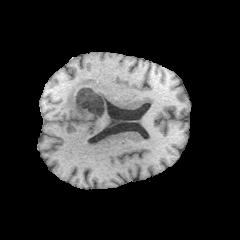glioma: (64, 79, 138, 140)
